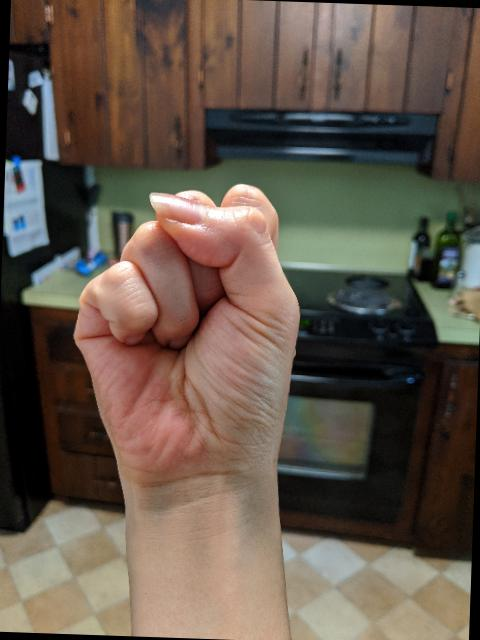S: (63, 172, 312, 498)
